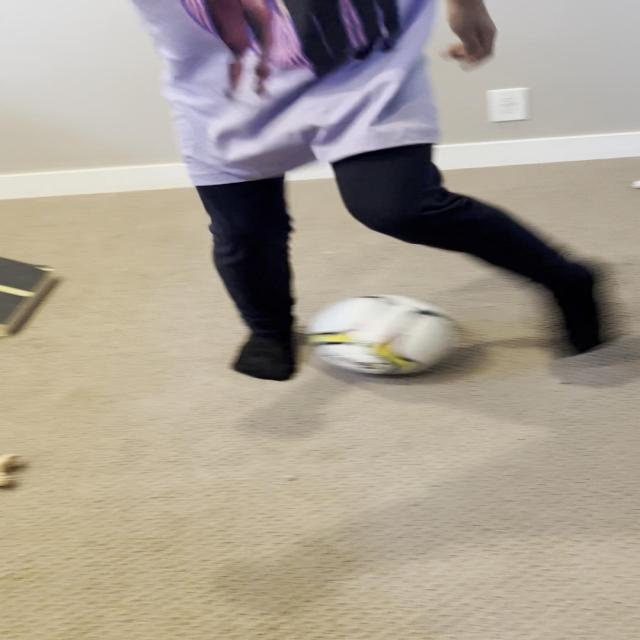Soccer Ball: (307, 294, 456, 377)
